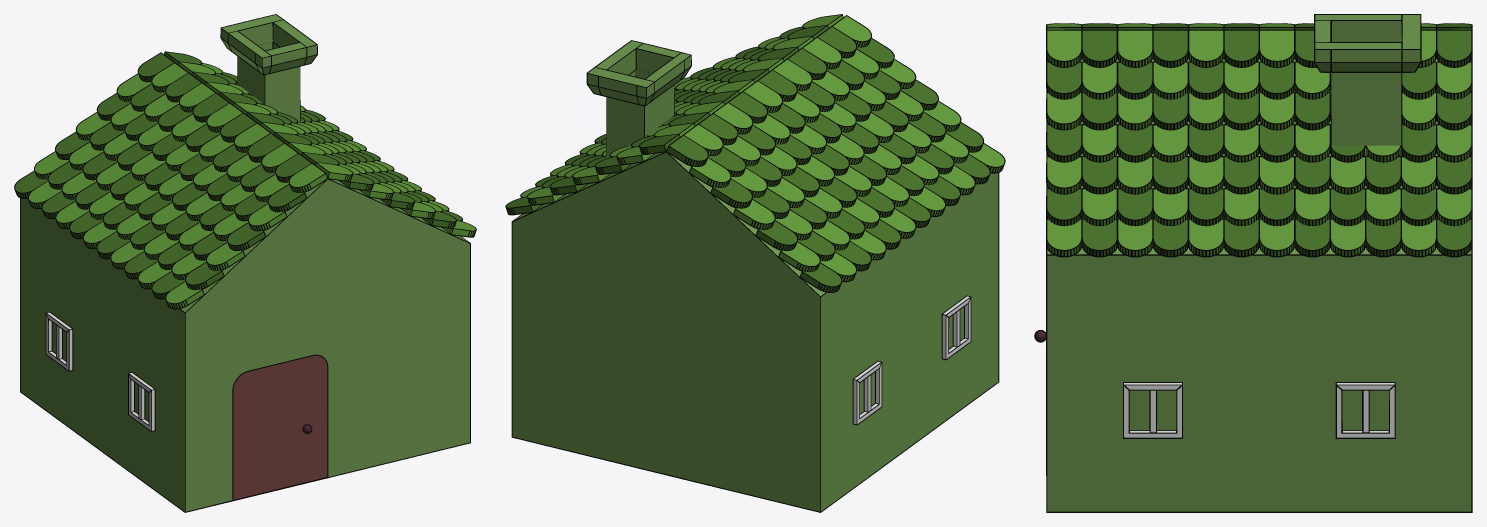
3 views of the same model, side by side, from view 1: azimuth 30°, elevation 25°; view 2: azimuth 150°, elevation 25°; view 3: azimuth 270°, elevation 25° (orthographic). The views are drawn at different scales.
Visible parts, largest first — view 1: House, Bricks_Left, Door, Bricks_Right, Chimney, Window_Left_Left, Window_Left_Right; view 2: House, Bricks_Left, Bricks_Right, Chimney, Window_Left_Right, Window_Left_Left; view 3: House, Bricks_Right, Chimney, Bricks_Left, Window_Right_Right, Window_Right_Left.
Boxes of the visible parts, left/top/right/bottom form: House: left=20, top=178, right=470, bottom=512; Bricks_Left: left=14, top=52, right=327, bottom=309; Door: left=232, top=355, right=328, bottom=500; Bricks_Right: left=164, top=51, right=476, bottom=237; Chimney: left=220, top=14, right=317, bottom=121; Window_Left_Left: left=45, top=312, right=73, bottom=371; Window_Left_Right: left=128, top=372, right=155, bottom=431; House: left=511, top=151, right=999, bottom=512; Bricks_Left: left=666, top=15, right=1005, bottom=292; Bricks_Right: left=505, top=14, right=843, bottom=215; Chimney: left=586, top=40, right=691, bottom=156; Window_Left_Right: left=941, top=295, right=971, bottom=360; Window_Left_Left: left=852, top=361, right=882, bottom=425; House: left=1046, top=57, right=1472, bottom=512; Bricks_Right: left=1046, top=29, right=1472, bottom=257; Chimney: left=1314, top=14, right=1421, bottom=155; Bricks_Left: left=1046, top=23, right=1472, bottom=68; Window_Right_Right: left=1335, top=382, right=1395, bottom=438; Window_Right_Left: left=1123, top=382, right=1182, bottom=438.
Size of the model in its own units: 6.47 by 6.73 by 6.18.
